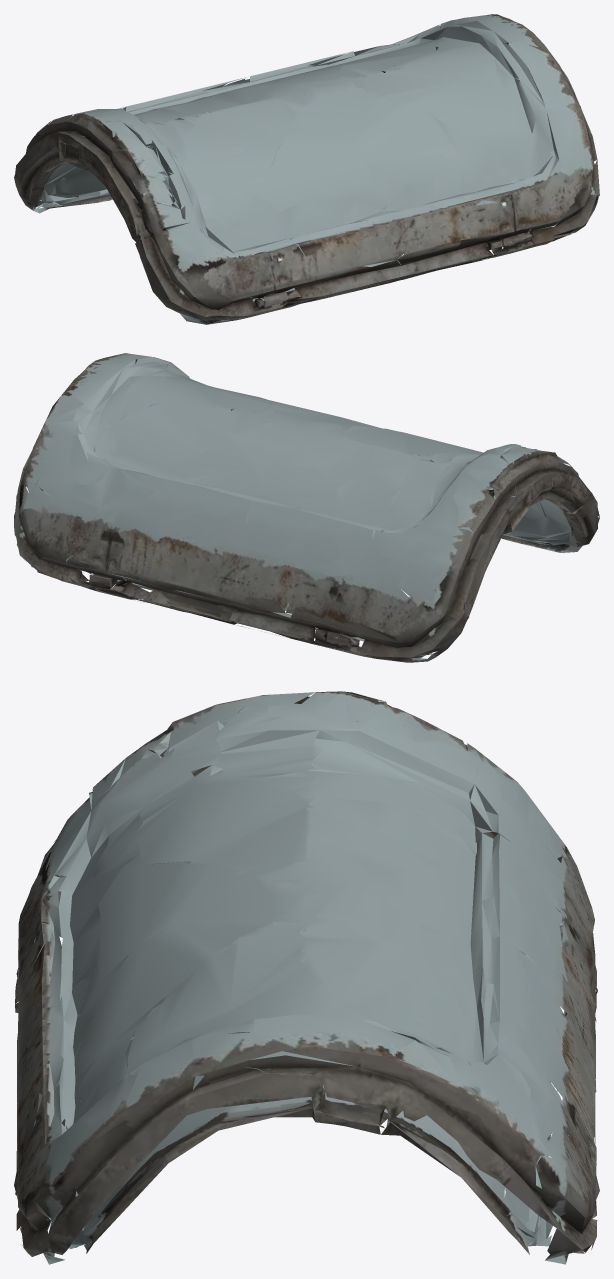
The model's file is decor.stasis_glass.glb.
The picture shows the model from 3 angles, top to bottom: view 1: azimuth 30°, elevation 25°; view 2: azimuth 150°, elevation 25°; view 3: azimuth 270°, elevation 25°; orthographic projection. The views are drawn at different scales.
Parts seen in each view (by area): view 1: body; view 2: body; view 3: body.
Part boxes in pixels (x1,y1,x2,y2): body: [14, 14, 599, 324]; body: [14, 353, 599, 662]; body: [14, 691, 599, 1264].
Size of the model in its own units: 2.15 by 0.6985 by 1.42.
Materials: 1 (1 with a texture image).
